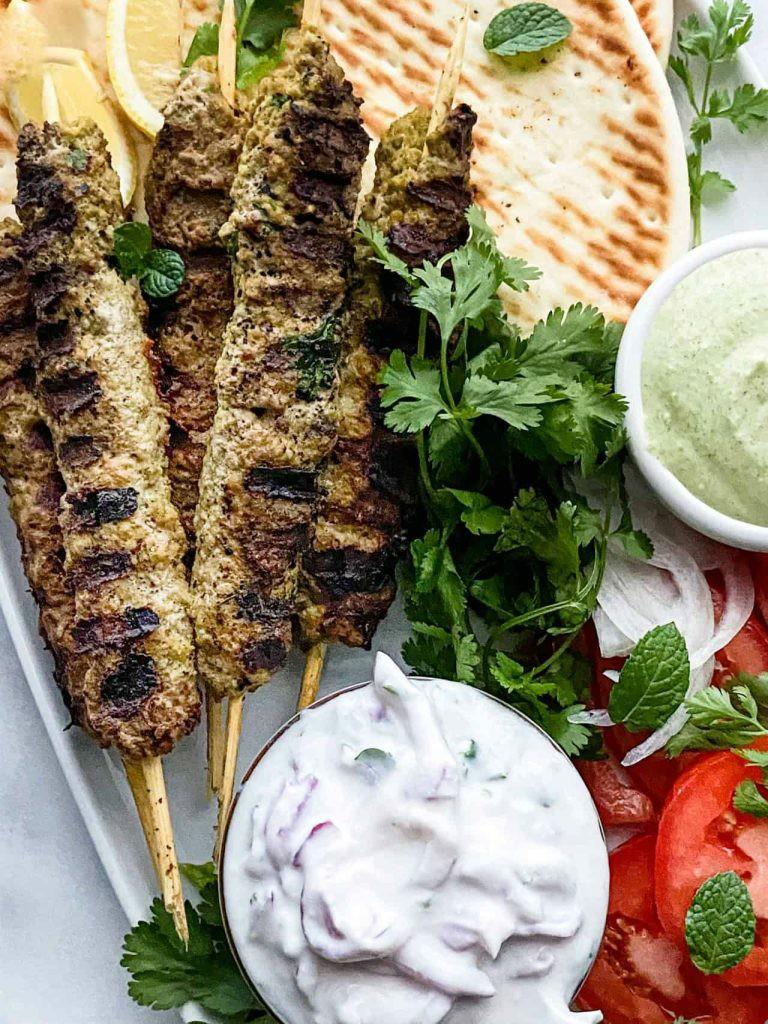Kebab: (13, 119, 200, 759), (191, 28, 370, 696), (296, 98, 480, 651), (143, 66, 255, 575), (0, 218, 103, 743)
